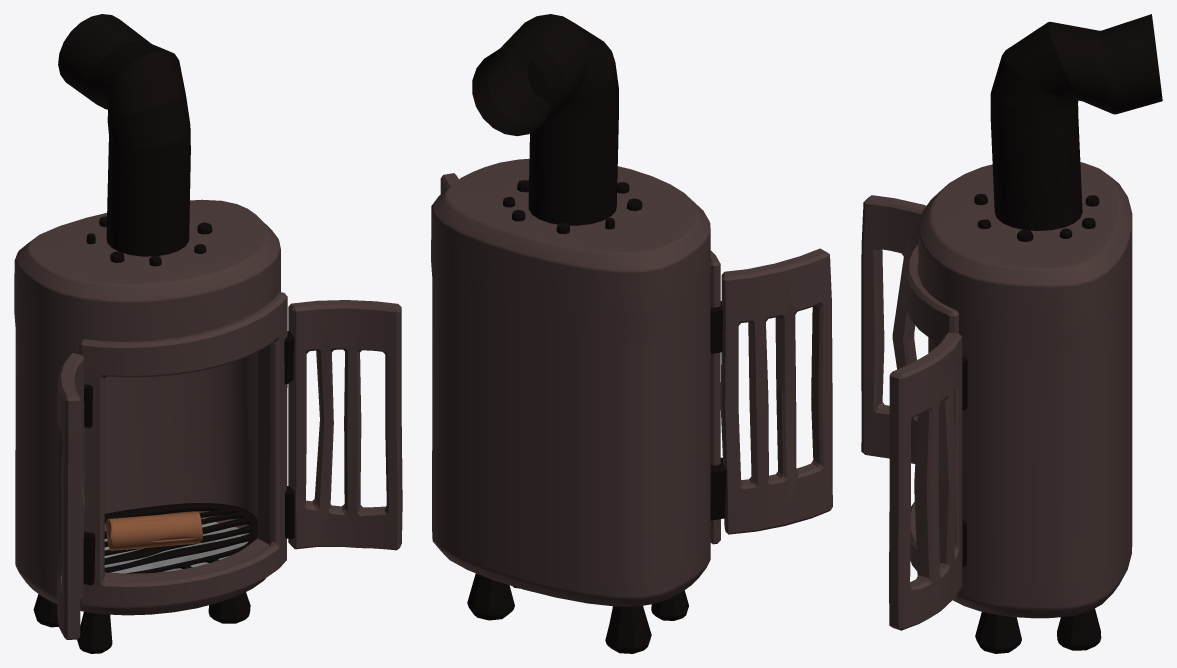
Rendered from geo_chemine.fbx.
The picture shows the model from 3 angles, left to right: view 1: azimuth 30°, elevation 25°; view 2: azimuth 150°, elevation 25°; view 3: azimuth 270°, elevation 25°; orthographic projection. The views are drawn at different scales.
Visible parts, largest first — view 1: geo_chemine_07, geo_chemine_09, geo_chemine_02, geo_chemine_06, geo_chemine_01, geo_chemine_024, geo_chemine_023, geo_chemine_022, geo_chemine_018, geo_chemine_020, geo_chemine_04, geo_chemine_021; view 2: geo_chemine_07, geo_chemine_01, geo_chemine_09, geo_chemine_06, geo_chemine_021, geo_chemine_019, geo_chemine_04, geo_chemine_018, geo_chemine_05; view 3: geo_chemine_07, geo_chemine_09, geo_chemine_02, geo_chemine_01, geo_chemine_06, geo_chemine_020, geo_chemine_019.
Boxes of the visible parts, bbox=[...] form: geo_chemine_07: bbox=[14, 199, 280, 615]; geo_chemine_09: bbox=[58, 14, 190, 256]; geo_chemine_02: bbox=[288, 300, 402, 550]; geo_chemine_06: bbox=[79, 292, 287, 608]; geo_chemine_01: bbox=[57, 353, 85, 639]; geo_chemine_024: bbox=[104, 503, 257, 573]; geo_chemine_023: bbox=[106, 511, 202, 550]; geo_chemine_022: bbox=[104, 518, 249, 573]; geo_chemine_018: bbox=[77, 612, 112, 653]; geo_chemine_020: bbox=[208, 592, 250, 623]; geo_chemine_04: bbox=[83, 532, 95, 585]; geo_chemine_021: bbox=[33, 594, 58, 627]; geo_chemine_07: bbox=[431, 158, 710, 606]; geo_chemine_01: bbox=[720, 248, 832, 534]; geo_chemine_09: bbox=[472, 14, 618, 225]; geo_chemine_06: bbox=[710, 250, 720, 544]; geo_chemine_021: bbox=[605, 605, 651, 653]; geo_chemine_019: bbox=[467, 573, 514, 620]; geo_chemine_04: bbox=[710, 457, 726, 520]; geo_chemine_018: bbox=[651, 590, 688, 620]; geo_chemine_05: bbox=[710, 301, 722, 353]; geo_chemine_07: bbox=[918, 162, 1132, 618]; geo_chemine_09: bbox=[990, 14, 1162, 230]; geo_chemine_02: bbox=[889, 332, 962, 630]; geo_chemine_01: bbox=[861, 195, 935, 463]; geo_chemine_06: bbox=[905, 243, 958, 570]; geo_chemine_020: bbox=[975, 612, 1021, 653]; geo_chemine_019: bbox=[1057, 608, 1101, 650].
Size of the model in its own units: 201 by 309 by 141.
